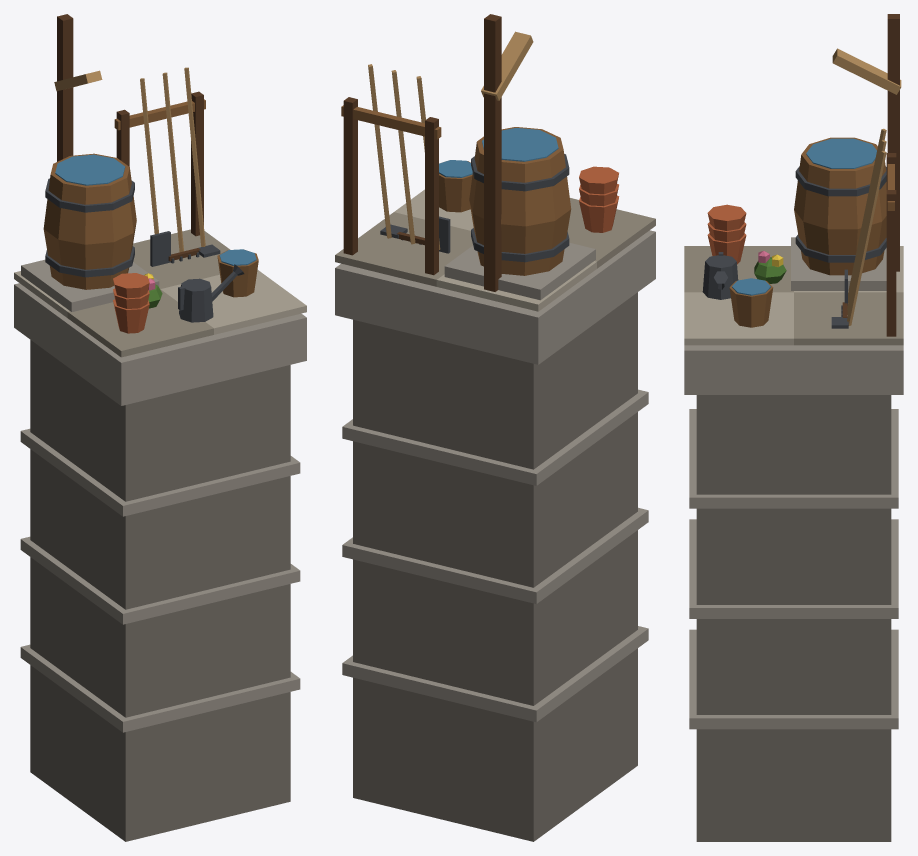
File: decor_tool_corner.glb
The picture shows the model from 3 angles, left to right: view 1: azimuth 30°, elevation 25°; view 2: azimuth 150°, elevation 25°; view 3: azimuth 270°, elevation 25°; orthographic projection. The views are drawn at different scales.
Visible parts, largest first — view 1: decor_tool_corner; view 2: decor_tool_corner; view 3: decor_tool_corner.
Part boxes in pixels (box(x1,y1,x2,y2)): decor_tool_corner: box(14, 14, 306, 841); decor_tool_corner: box(335, 14, 655, 841); decor_tool_corner: box(684, 14, 903, 841).
Size of the model in its own units: 1.8 by 6.9 by 1.8.
